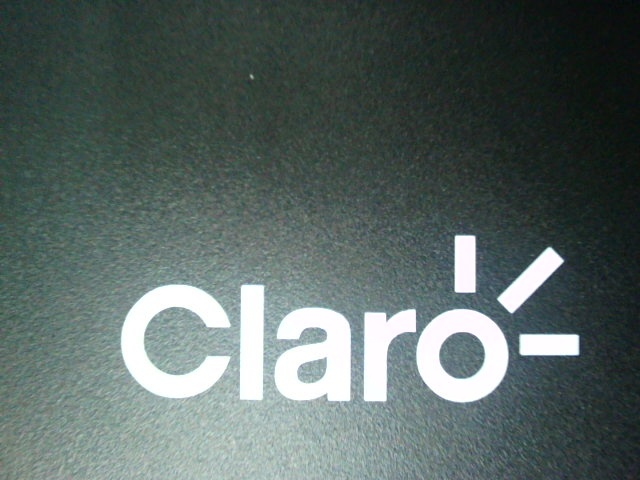BC_Claor: (121, 230, 586, 411)
